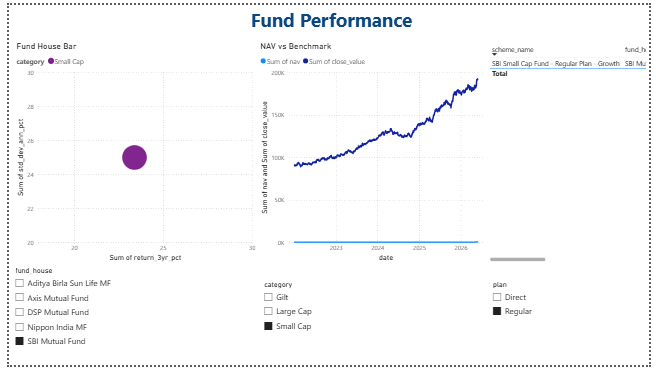

The page's visual inventory and layout, read from the dashboard file:
{"tool":"powerbi","page":{"name":"Fund Performance","canvas":[1280,720],"ordinal":1},"visuals":[{"type":"textbox","box":[10,0,1270,72],"z":0},{"type":"scatterChart","title":"Fund House Bar","fields":{"X":["Sum(07_scheme_performance.return_3yr_pct)"],"Y":["Sum(07_scheme_performance.std_dev_ann_pct)"],"Size":["Sum(07_scheme_performance.aum_crore)"],"Category":["07_scheme_performance.scheme_name"],"Series":["07_scheme_performance.category"]},"box":[10,72,488,446],"z":1000},{"type":"tableEx","fields":{"Values":["07_scheme_performance.scheme_name","07_scheme_performance.fund_house","07_scheme_performance.category","Sum(07_scheme_performance.return_3yr_pct)","Sum(07_scheme_performance.sharpe_ratio)","Sum(07_scheme_performance.expense_ratio_pct)"]},"box":[956,72,324,446],"z":2000},{"type":"lineChart","title":"NAV vs Benchmark","fields":{"Y":["Sum(02_nav_history.nav)","Sum(10_benchmark_indices.close_value)"],"Category":["02_nav_history.date"]},"box":[498,72,458,446],"z":3000},{"type":"slicer","fields":{"Values":["07_scheme_performance.category"]},"box":[498,546,458,174],"z":4000},{"type":"slicer","fields":{"Values":["07_scheme_performance.fund_house"]},"box":[0,518,498,202],"z":5000},{"type":"slicer","fields":{"Values":["07_scheme_performance.plan"]},"box":[956,546,324,164],"z":6000}]}

Visuals, with their boxes in screenshot pixels (x1, y1, x2, y2), scaled from the page's 1280x720 canvas onto the 656x372 screenshot:
textbox: <bbox>5, 0, 655, 37</bbox>
"Fund House Bar" scatterChart: <bbox>5, 37, 255, 268</bbox>
tableEx - 07_scheme_performance.scheme_name x 07_scheme_performance.fund_house: <bbox>490, 37, 655, 268</bbox>
"NAV vs Benchmark" lineChart: <bbox>255, 37, 490, 268</bbox>
slicer - 07_scheme_performance.category: <bbox>255, 282, 490, 371</bbox>
slicer - 07_scheme_performance.fund_house: <bbox>0, 268, 255, 371</bbox>
slicer - 07_scheme_performance.plan: <bbox>490, 282, 655, 367</bbox>
